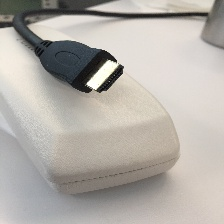hdmi_male: (42, 34, 126, 98)
